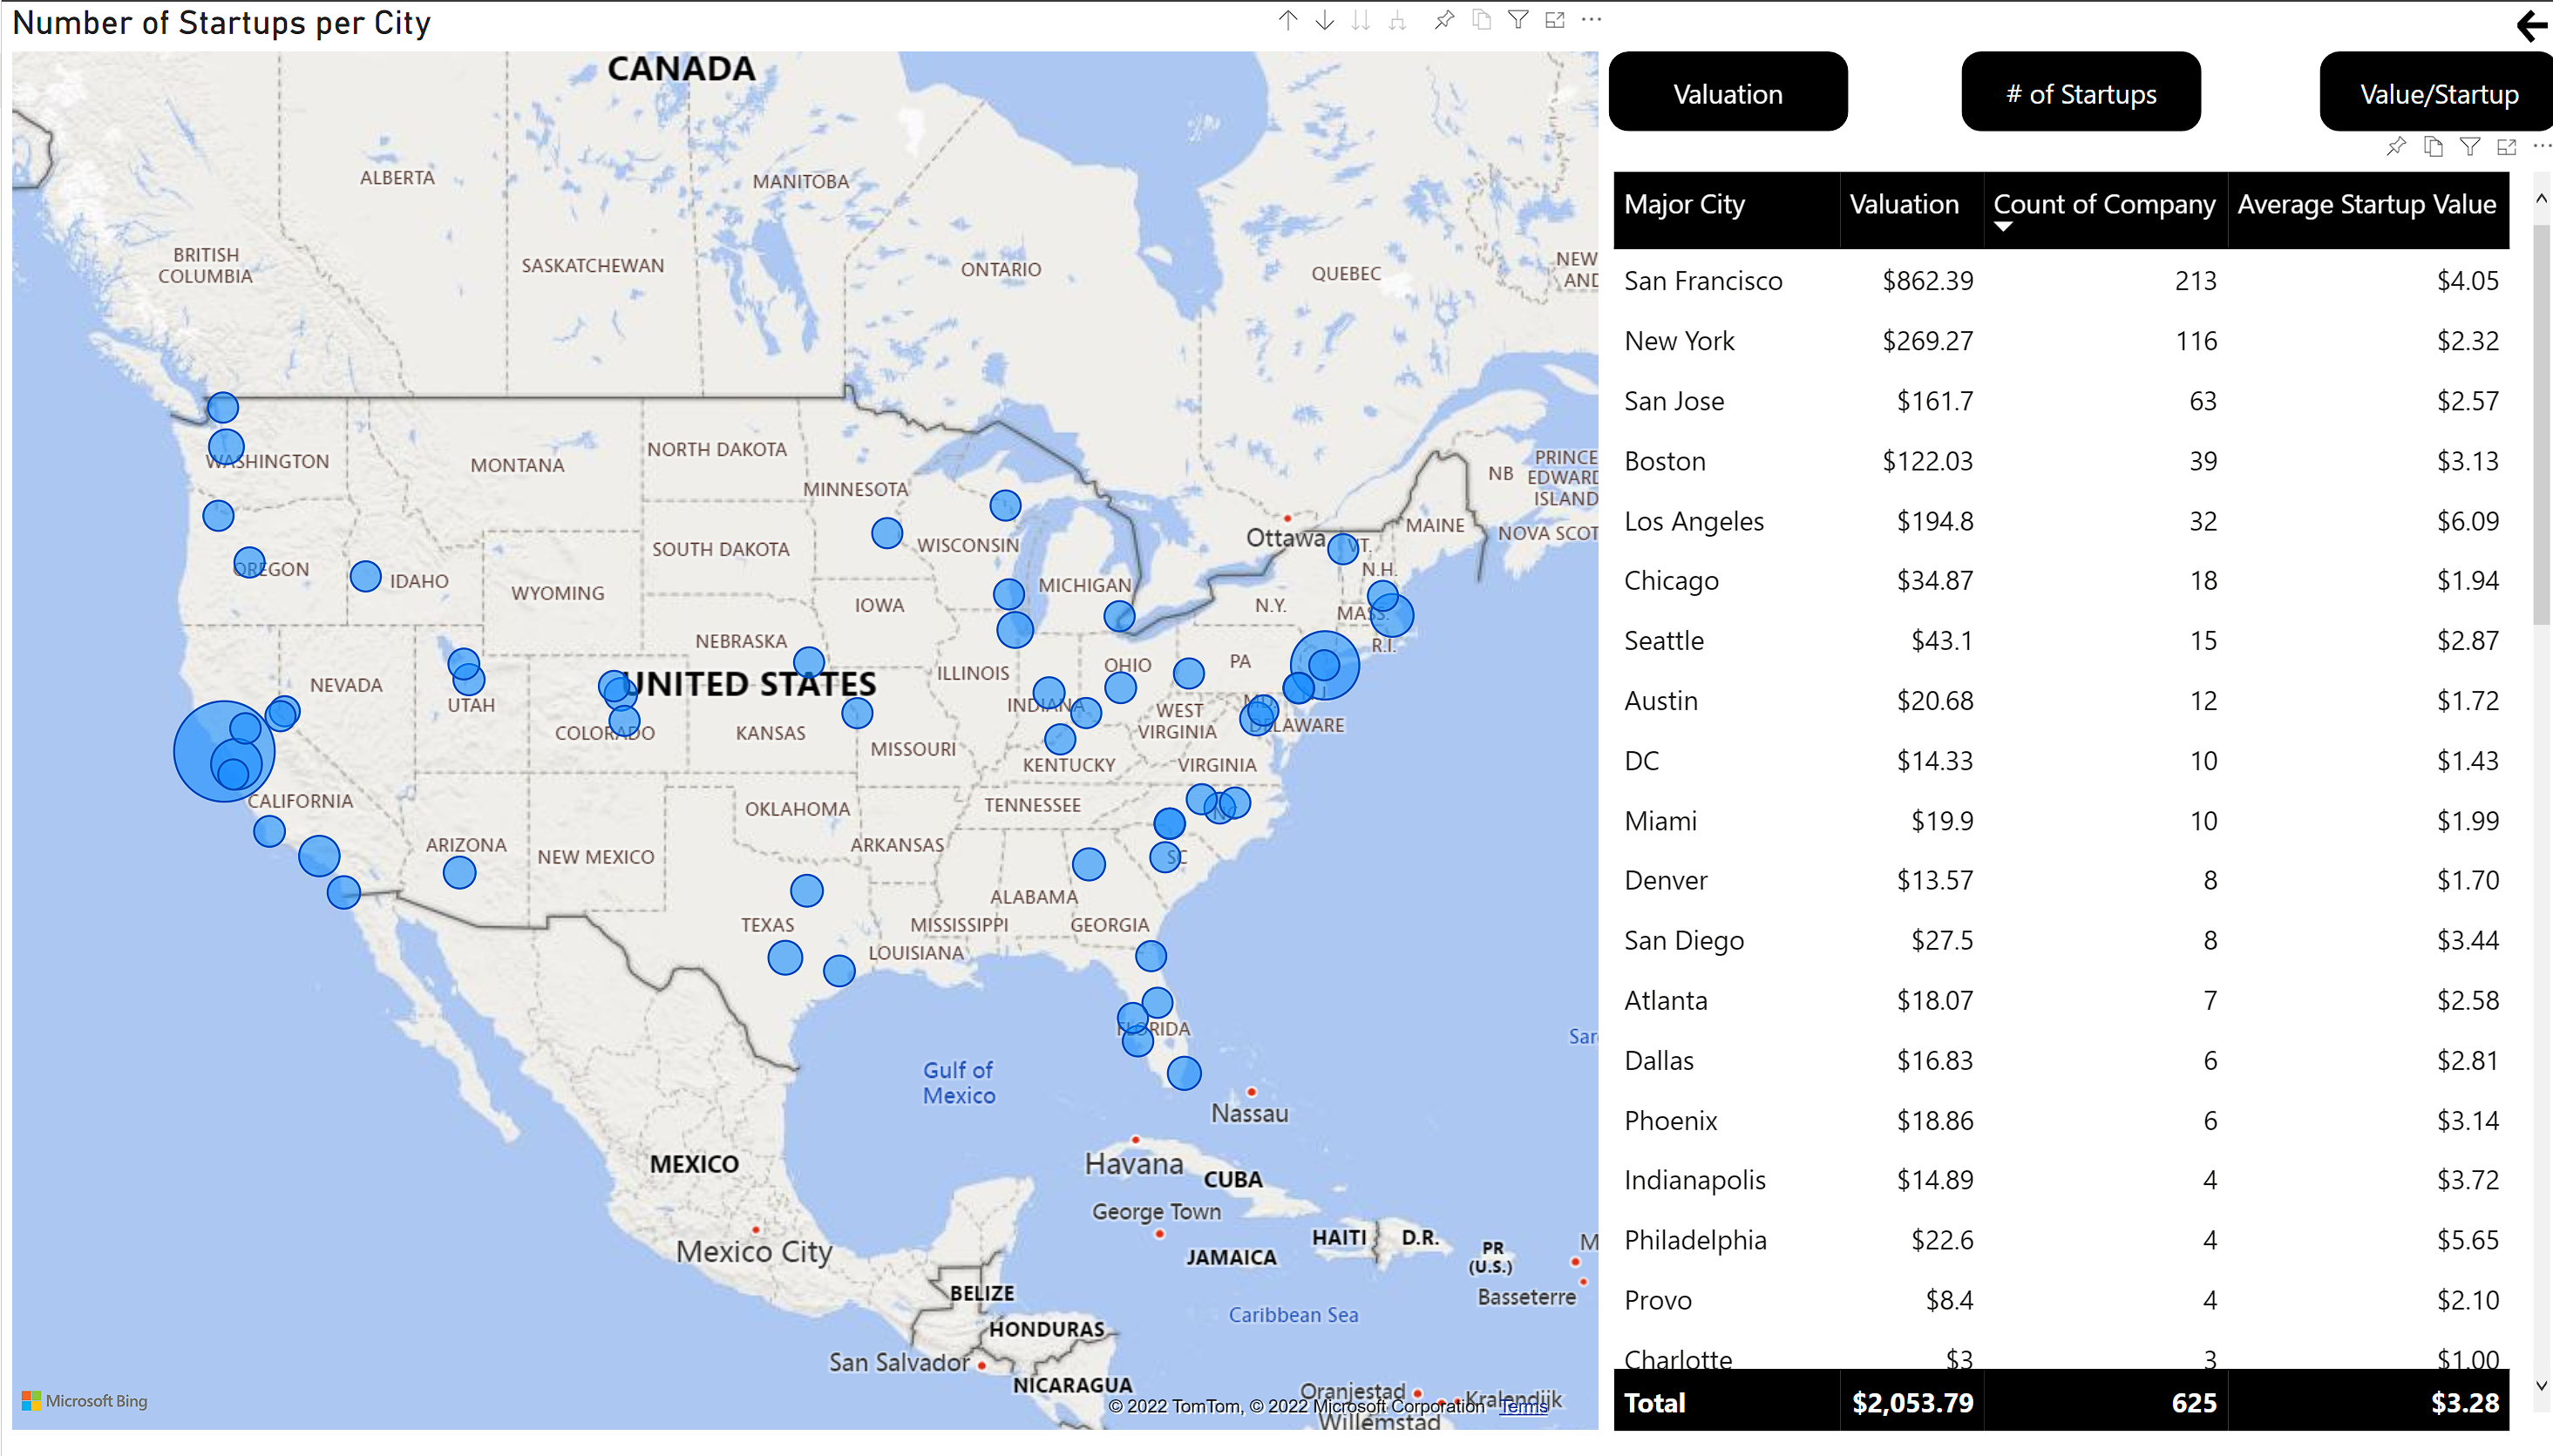

What the dashboard file says about the page in this screenshot:
{"tool":"powerbi","page":{"name":"Cities","canvas":[1280,720],"ordinal":2},"visuals":[{"type":"map","title":"Number of Startups per City","fields":{"Category":["Major Cities Lookup.State","Startups.Major City Location"],"Size":["CountNonNull(Startups.Company)"]},"box":[0,0,803.6,719.8],"z":0},{"type":"tableEx","title":"Table","fields":{"Values":["Major Cities Lookup.Major City","Sum(Startups.Valuation)","Startups.Company","Major Cities Lookup.Average Startup Value"]},"box":[800.3,79.8,479.7,640],"z":1000},{"type":"actionButton","box":[803.8,24.7,120,40.1],"z":4000},{"type":"actionButton","box":[980.2,24.7,120.2,40.1],"z":5000},{"type":"actionButton","box":[1159.8,24.7,120.2,40.1],"z":6000},{"type":"actionButton","box":[1254.6,0,25.3,24.7],"z":7000}]}

Visuals, with their boxes on the page's 1280x720 design canvas (x1, y1, x2, y2). These are canvas units, not pixel positions in the 2553x1456 screenshot, which may show the page scaled, cropped or inside an application window:
"Number of Startups per City" map: (0,0,804,720)
"Table" tableEx: (800,80,1280,720)
actionButton: (804,25,924,65)
actionButton: (980,25,1100,65)
actionButton: (1160,25,1280,65)
actionButton: (1255,0,1280,25)
